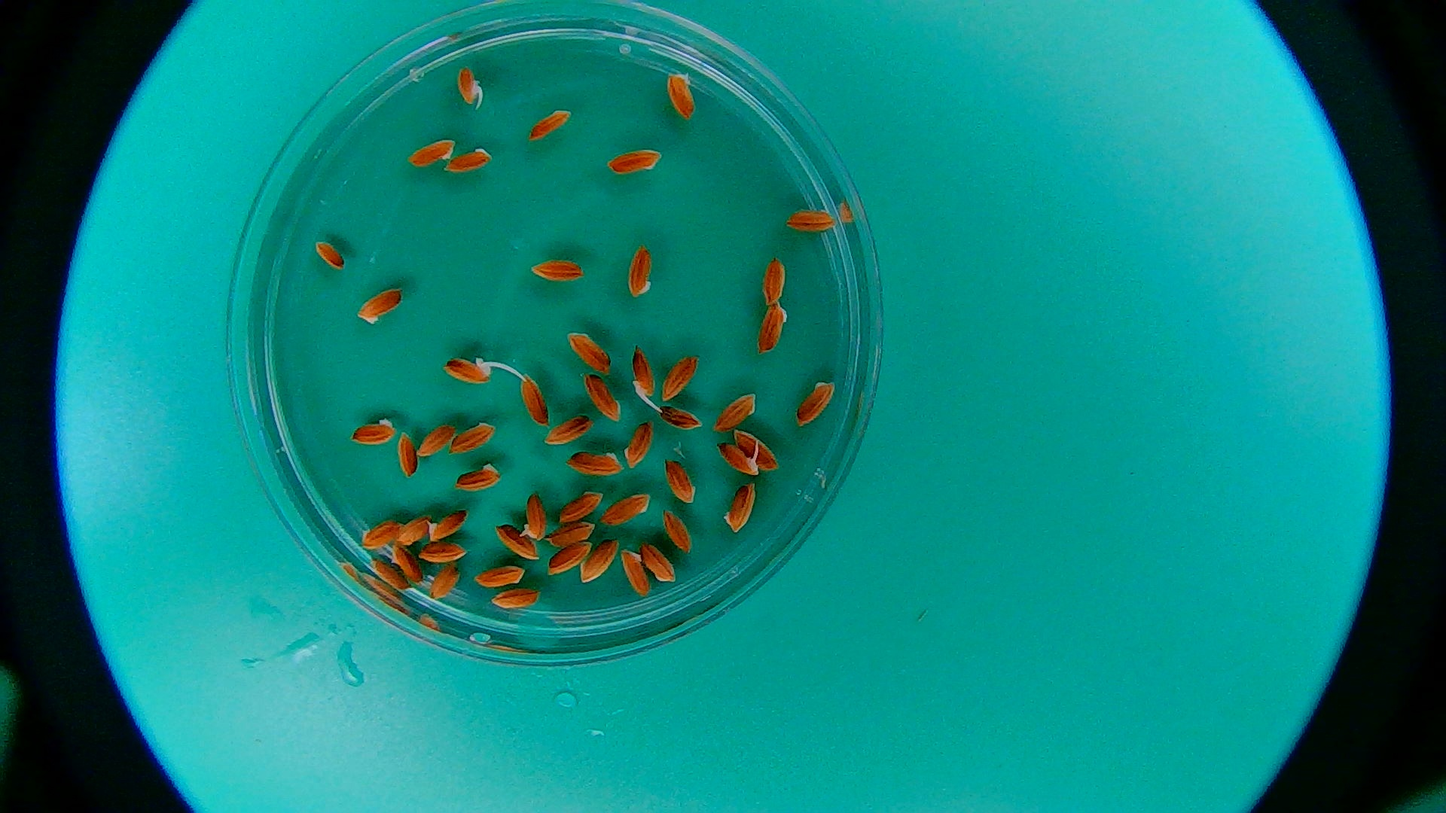no: (728, 424, 779, 474), (603, 146, 664, 184), (664, 450, 703, 507), (548, 488, 604, 525), (584, 373, 625, 421), (356, 285, 404, 326), (795, 376, 835, 425), (566, 331, 612, 373), (638, 539, 679, 585), (580, 538, 619, 586), (660, 353, 698, 402), (562, 447, 624, 477), (714, 391, 757, 434), (721, 483, 757, 534), (471, 563, 528, 595), (545, 539, 592, 577), (755, 299, 788, 353), (620, 547, 654, 598), (529, 104, 575, 141), (598, 492, 651, 524), (395, 511, 435, 552), (624, 419, 656, 470), (495, 524, 539, 561), (520, 372, 550, 425), (627, 243, 654, 300), (664, 71, 695, 120), (656, 403, 705, 434), (454, 459, 502, 490), (347, 413, 395, 444), (409, 136, 458, 166), (355, 519, 402, 550), (371, 556, 411, 592), (448, 422, 496, 452), (784, 206, 837, 233), (429, 562, 465, 601), (544, 414, 590, 444), (543, 520, 592, 548), (761, 255, 787, 306), (390, 546, 423, 586), (415, 538, 467, 563), (664, 509, 691, 554), (490, 586, 538, 611), (444, 148, 491, 172), (531, 260, 584, 281), (415, 425, 451, 455), (398, 430, 419, 479), (314, 240, 346, 270)
yes: (716, 440, 761, 479), (515, 486, 545, 543), (426, 508, 465, 547), (630, 346, 655, 403), (443, 356, 491, 385), (455, 65, 484, 111)
